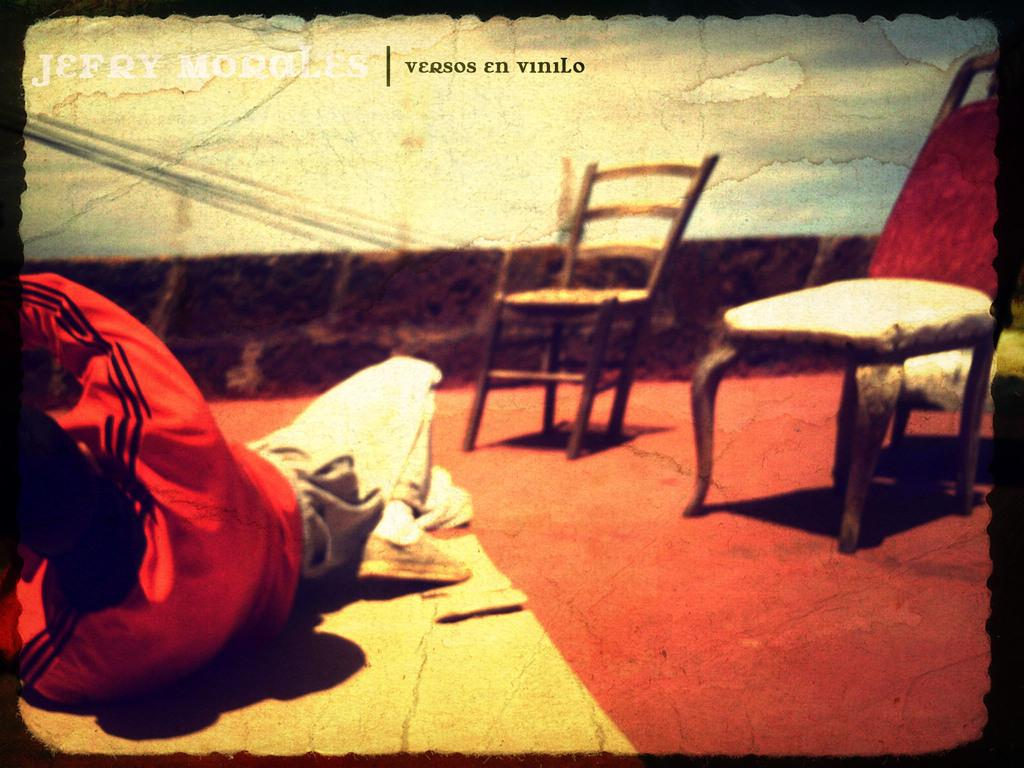Chair: (682, 53, 1002, 554), (461, 151, 720, 460)
